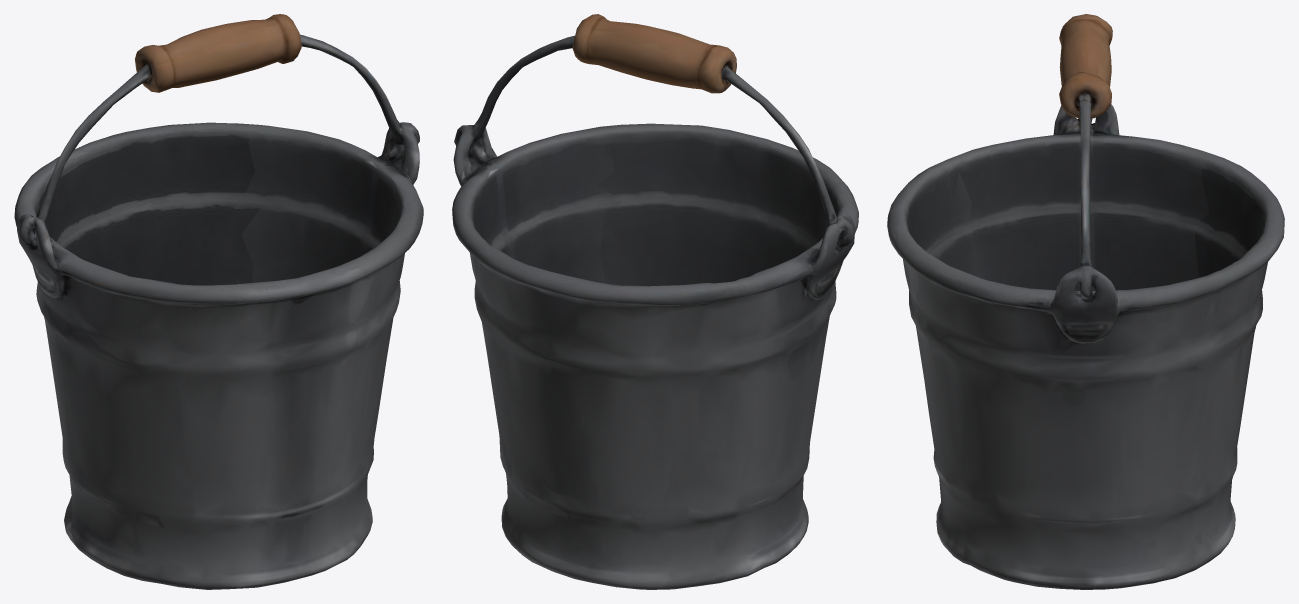
Rendered from Pail.glb.
The picture shows the model from 3 angles, left to right: view 1: azimuth 30°, elevation 25°; view 2: azimuth 150°, elevation 25°; view 3: azimuth 270°, elevation 25°; orthographic projection. The views are drawn at different scales.
Visible parts, largest first — view 1: Pail; view 2: Pail; view 3: Pail.
Part boxes in pixels (x1,y1,x2,y2): Pail: [14, 14, 423, 589]; Pail: [452, 14, 858, 589]; Pail: [887, 14, 1284, 589].
Bounding box in the file's own units: 0.4517 × 0.5385 × 0.3985.
Materials: 1 (1 with a texture image).
